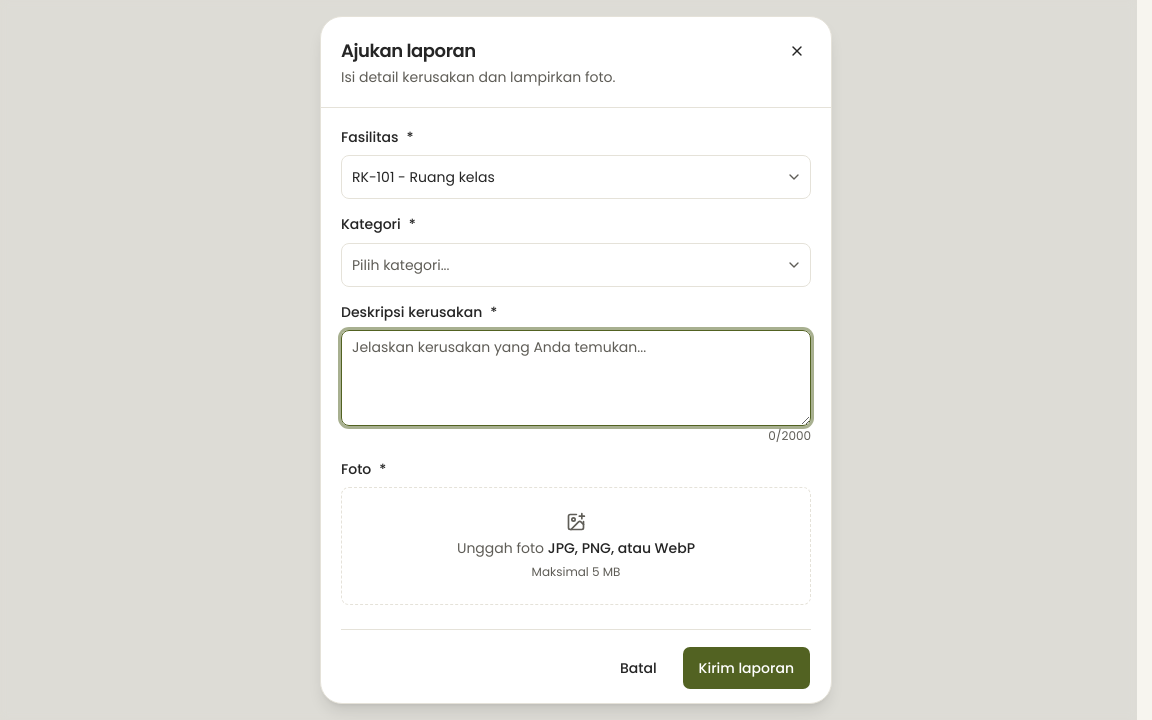
Test: ReportFormDialog memilih fasilitas dan kategori › menampilkan placeholder kategori dan memilih opsi
The image size is (1152, 720).
Click the dropdown labelled "Pilih kategori... ▼": x=401, y=264 x1=341 y1=242 x2=811 y2=286
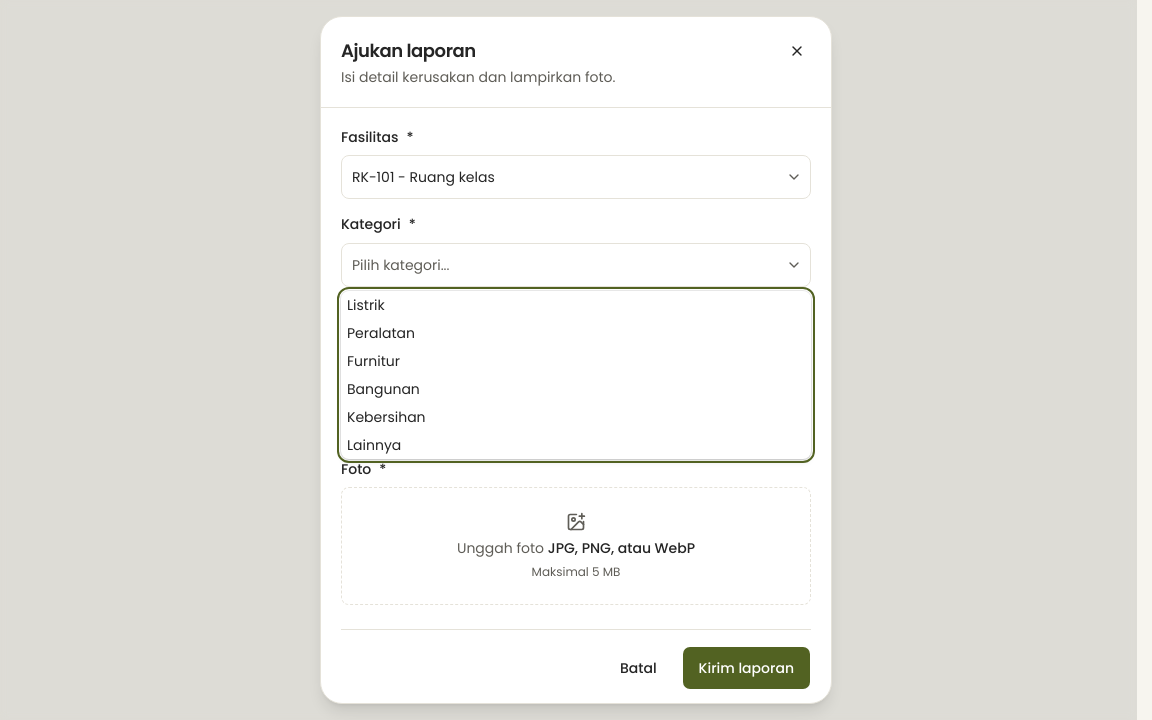
Check: the list is shown, box x1=347 y1=295 x2=426 y2=455
Click the option "Listrik": x=366, y=305 x1=347 y1=295 x2=385 y2=315
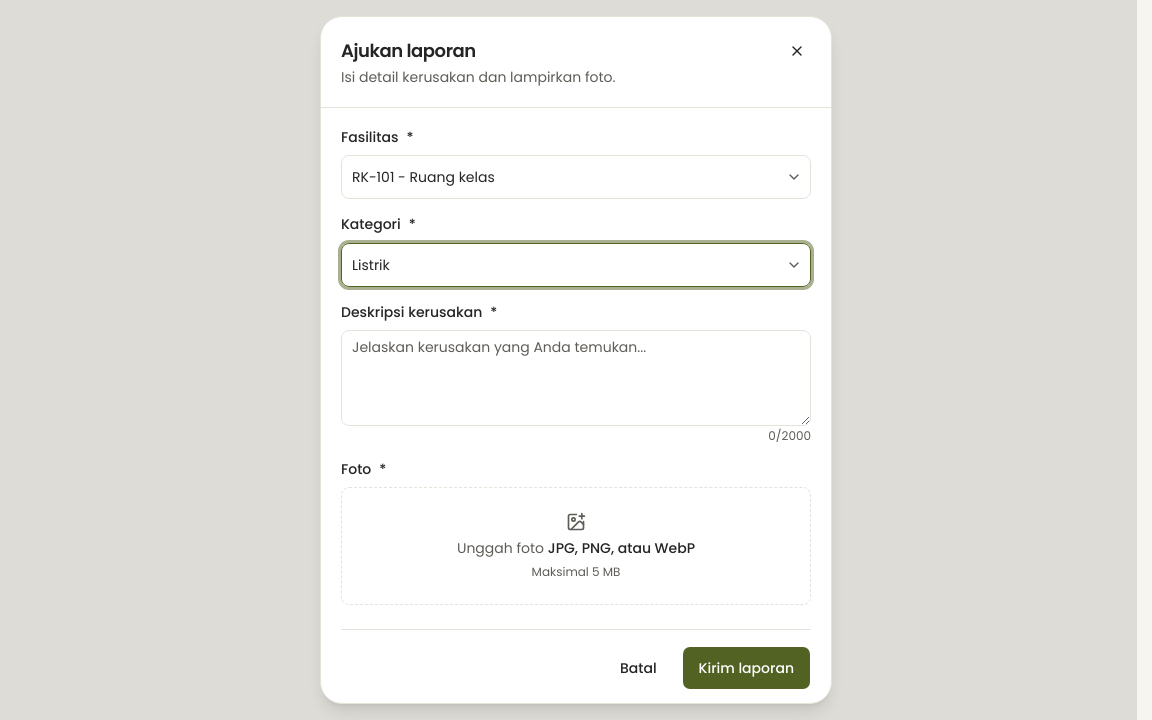
Check: the element named "kategori" holds "Listrik", box x1=341 y1=242 x2=811 y2=286
Check: the dropdown named "Kategori" shows "Listrik", box x1=341 y1=242 x2=811 y2=286
